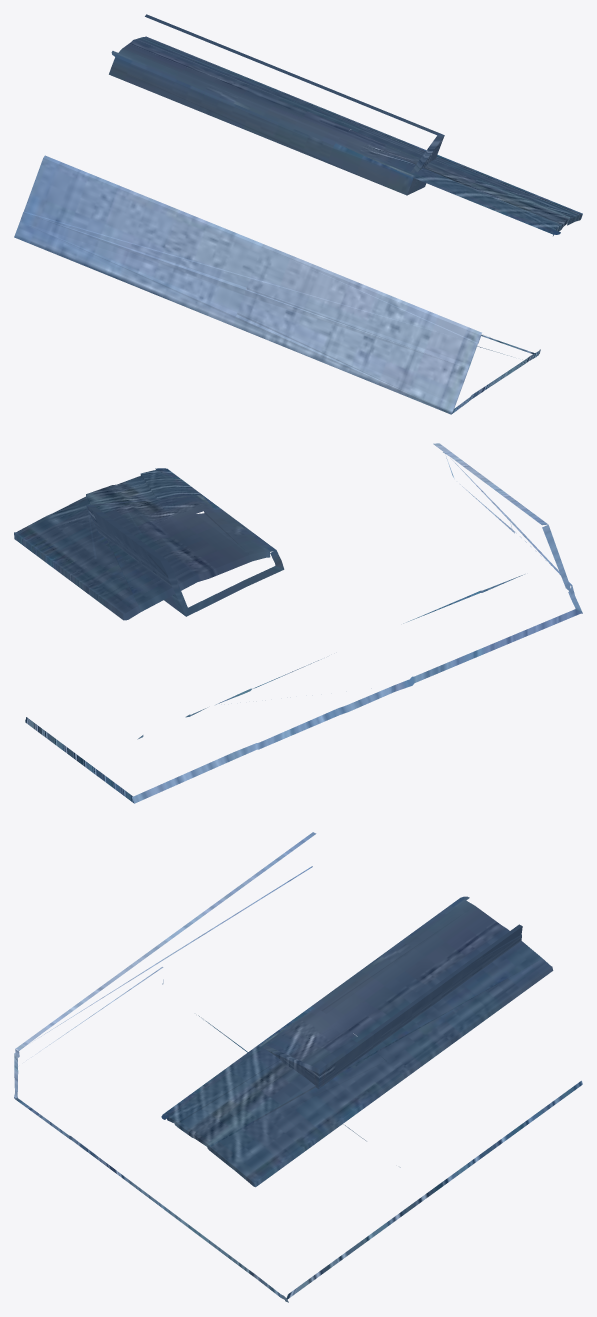
Rendered from congresso_tile_57.glb.
3 views of the same model, one above another, from view 1: azimuth 30°, elevation 25°; view 2: azimuth 150°, elevation 25°; view 3: azimuth 270°, elevation 25° (orthographic). The views are drawn at different scales.
Bounding box in the file's own units: 47.29 × 25.79 × 49.75.
1 material, 1 textured.
